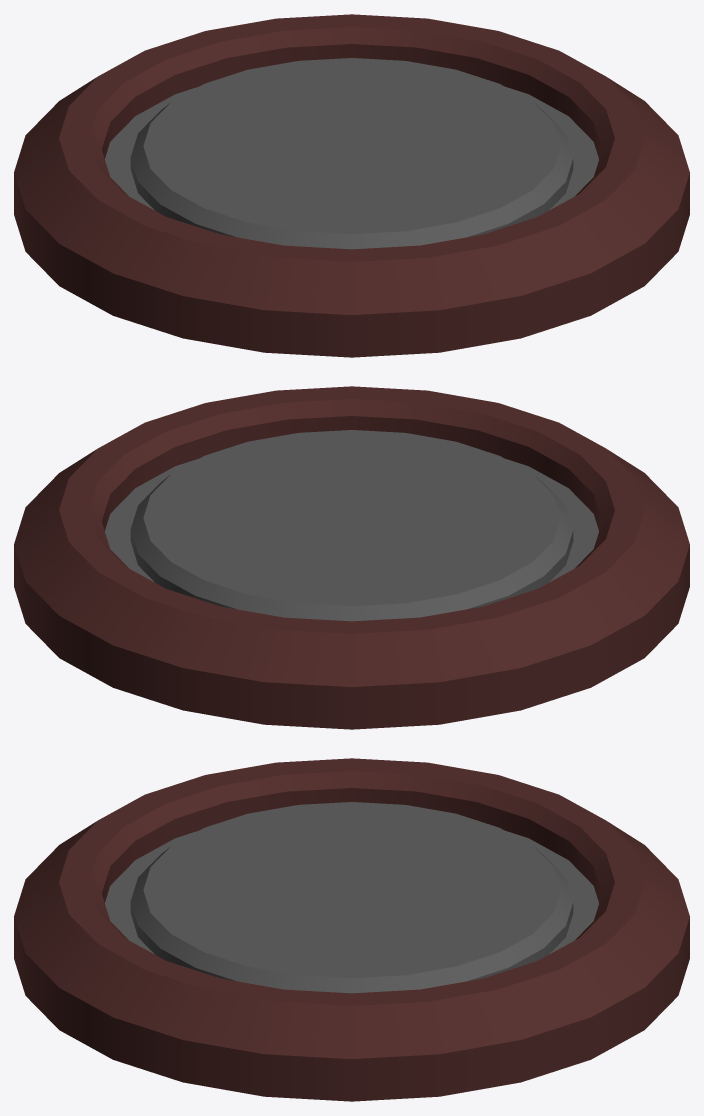
File: tfRound_Full.fbx
3 renders of one model, top to bottom at view 1: azimuth 30°, elevation 25°; view 2: azimuth 150°, elevation 25°; view 3: azimuth 270°, elevation 25°, orthographic.
Visible parts, largest first — view 1: pCylinder1; view 2: pCylinder1; view 3: pCylinder1.
Boxes of the visible parts, x1,y1,x2,y2 form: pCylinder1: (14, 14, 689, 357); pCylinder1: (14, 386, 689, 729); pCylinder1: (14, 758, 689, 1101).
Size of the model in its own units: 200 by 25 by 200.
